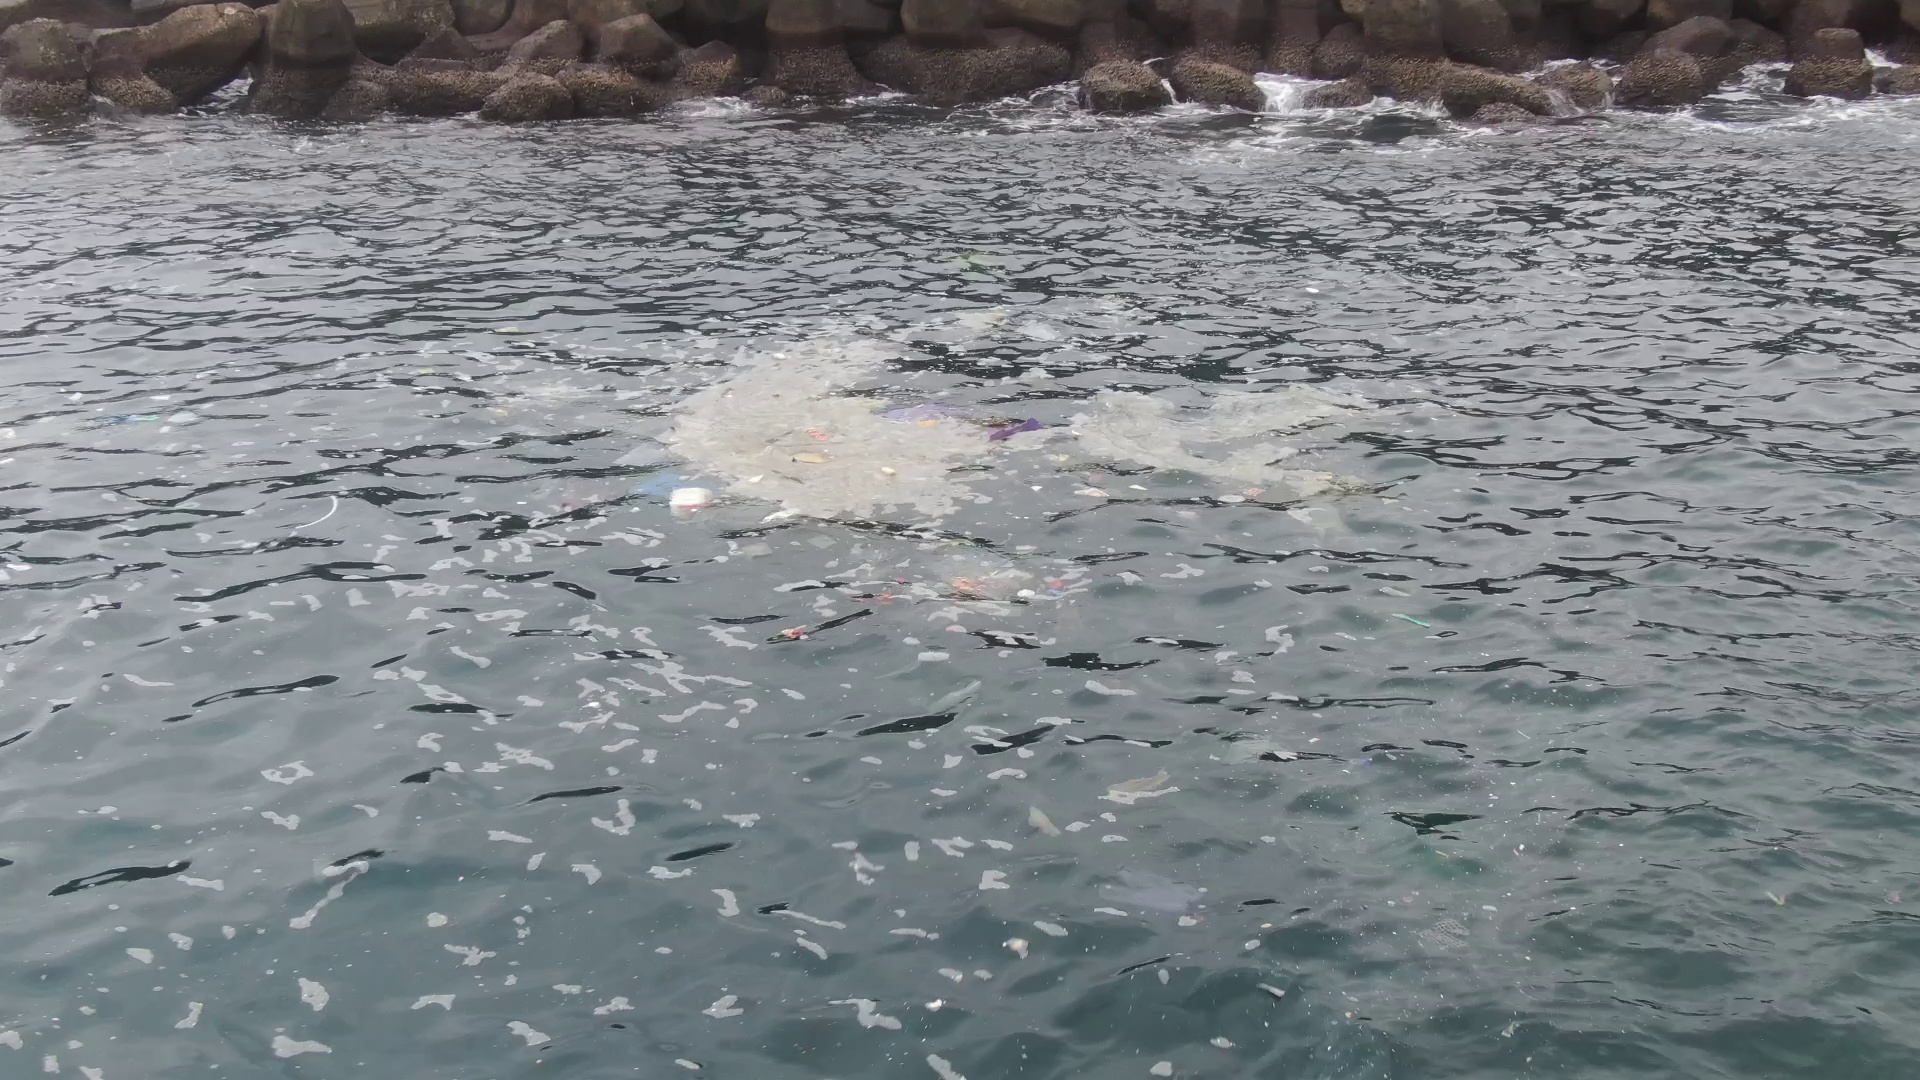garbage: (605, 353, 1052, 545), (866, 564, 1079, 615), (1095, 870, 1204, 914), (1422, 915, 1472, 951), (1077, 469, 1110, 498), (98, 414, 160, 426), (1394, 611, 1433, 628), (786, 618, 807, 644), (1242, 487, 1265, 498)
